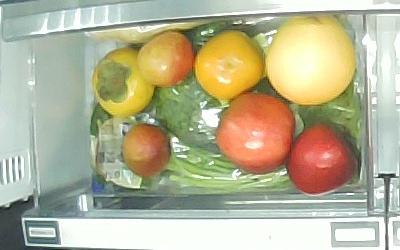apple: (217, 92, 296, 174), (285, 124, 356, 194)
grapefruit: (266, 14, 356, 105)
persimmon: (195, 30, 266, 100), (92, 48, 156, 117)
prune: (137, 30, 196, 88), (122, 124, 172, 175)
